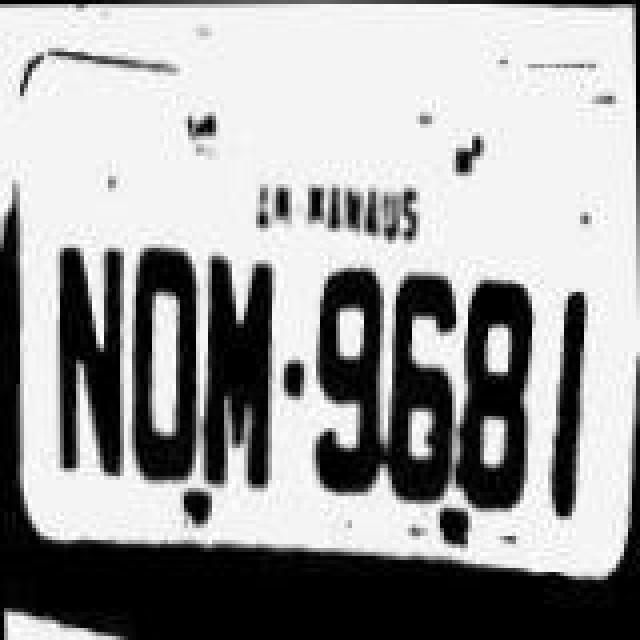1: (550, 286, 606, 522)
6: (384, 264, 460, 504)
8: (456, 268, 540, 512)
9: (310, 266, 390, 498)
M: (198, 256, 282, 496)
N: (48, 240, 128, 488)
O: (120, 240, 200, 492)
